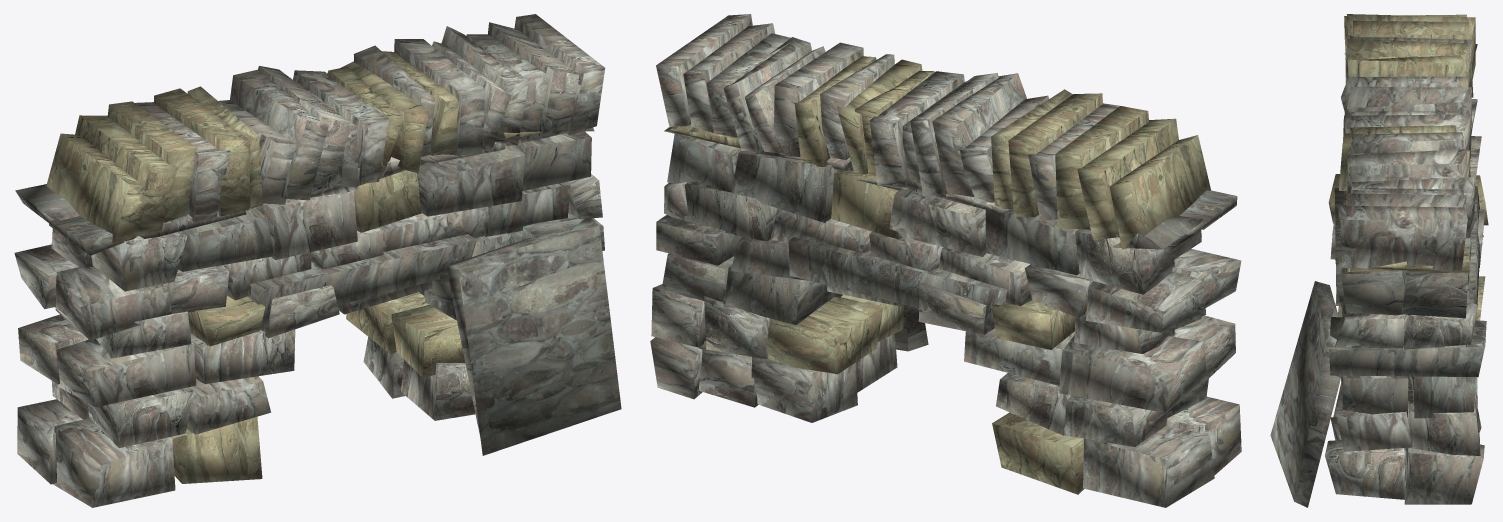
The model's file is kit_sr_creep_wall_p.glb.
3 views of the same model, side by side, from view 1: azimuth 30°, elevation 25°; view 2: azimuth 150°, elevation 25°; view 3: azimuth 270°, elevation 25° (orthographic). The views are drawn at different scales.
Parts seen in each view (by area): view 1: kit_sr_creep_wall_p; view 2: kit_sr_creep_wall_p; view 3: kit_sr_creep_wall_p.
Boxes of the visible parts, x1,y1,x2,y2 form: kit_sr_creep_wall_p: (14, 14, 621, 507); kit_sr_creep_wall_p: (650, 14, 1241, 507); kit_sr_creep_wall_p: (1270, 14, 1488, 507).
Size of the model in its own units: 2.19 by 1.37 by 0.8855.
1 material, 1 textured.
